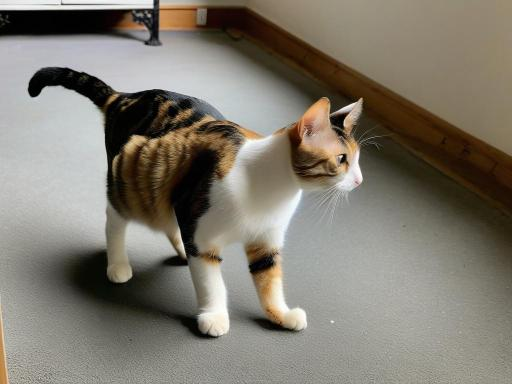cat_standing: (28, 67, 363, 336)
